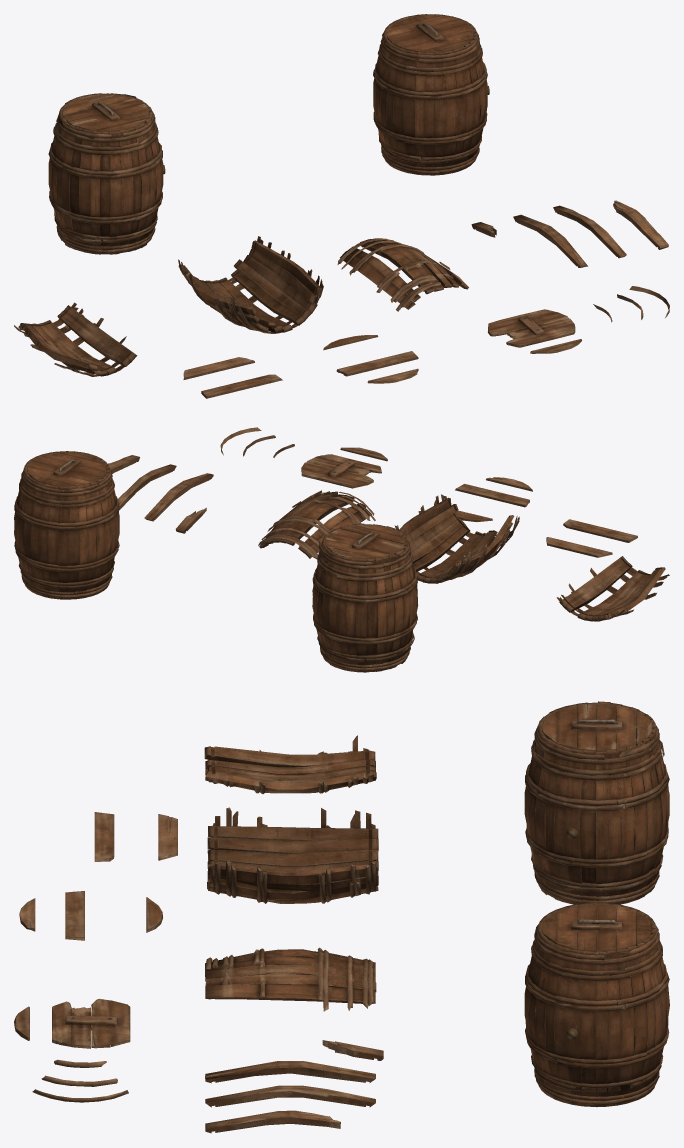
Rendered from wooden_barrels_01.glb.
3 renders of one model, top to bottom at view 1: azimuth 30°, elevation 25°; view 2: azimuth 150°, elevation 25°; view 3: azimuth 270°, elevation 25°, orthographic. The views are drawn at different scales.
Parts seen in each view (by area): view 1: wooden_barrels_01_barrel02, wooden_barrels_01_barrel01, wooden_barrels_01_piece01, wooden_barrels_01_piece03, wooden_barrels_01_piece02, wooden_barrels_01_piece08, wooden_barrels_01_piece04, wooden_barrels_01_piece05, wooden_barrels_01_piece06, wooden_barrels_01_piece11, wooden_barrels_01_piece14, wooden_barrels_01_piece13; view 2: wooden_barrels_01_barrel02, wooden_barrels_01_barrel01, wooden_barrels_01_piece01, wooden_barrels_01_piece03, wooden_barrels_01_piece02, wooden_barrels_01_piece08, wooden_barrels_01_piece04, wooden_barrels_01_piece14, wooden_barrels_01_piece11, wooden_barrels_01_piece05, wooden_barrels_01_piece13; view 3: wooden_barrels_01_barrel01, wooden_barrels_01_barrel02, wooden_barrels_01_piece01, wooden_barrels_01_piece03, wooden_barrels_01_piece02, wooden_barrels_01_piece08, wooden_barrels_01_piece04, wooden_barrels_01_piece05, wooden_barrels_01_piece06, wooden_barrels_01_piece14, wooden_barrels_01_piece11, wooden_barrels_01_piece13 (+1 smaller).
Boxes of the visible parts, bbox=[...] form: wooden_barrels_01_barrel02: bbox=[48, 93, 165, 254]; wooden_barrels_01_barrel01: bbox=[373, 14, 489, 175]; wooden_barrels_01_piece01: bbox=[178, 236, 323, 333]; wooden_barrels_01_piece03: bbox=[337, 238, 468, 311]; wooden_barrels_01_piece02: bbox=[14, 302, 137, 376]; wooden_barrels_01_piece08: bbox=[488, 309, 575, 347]; wooden_barrels_01_piece04: bbox=[513, 214, 587, 267]; wooden_barrels_01_piece05: bbox=[553, 205, 626, 258]; wooden_barrels_01_piece06: bbox=[613, 200, 668, 249]; wooden_barrels_01_piece11: bbox=[336, 351, 418, 376]; wooden_barrels_01_piece14: bbox=[201, 374, 282, 398]; wooden_barrels_01_piece13: bbox=[183, 357, 254, 379]; wooden_barrels_01_barrel02: bbox=[312, 523, 418, 672]; wooden_barrels_01_barrel01: bbox=[14, 451, 119, 599]; wooden_barrels_01_piece01: bbox=[394, 494, 519, 583]; wooden_barrels_01_piece03: bbox=[258, 490, 375, 559]; wooden_barrels_01_piece02: bbox=[556, 556, 669, 621]; wooden_barrels_01_piece08: bbox=[301, 454, 381, 488]; wooden_barrels_01_piece04: bbox=[144, 473, 213, 521]; wooden_barrels_01_piece14: bbox=[563, 519, 637, 542]; wooden_barrels_01_piece11: bbox=[455, 484, 529, 507]; wooden_barrels_01_piece05: bbox=[118, 464, 176, 510]; wooden_barrels_01_piece13: bbox=[546, 537, 612, 557]; wooden_barrels_01_barrel01: bbox=[524, 902, 669, 1107]; wooden_barrels_01_barrel02: bbox=[524, 701, 669, 904]; wooden_barrels_01_piece01: bbox=[207, 807, 378, 903]; wooden_barrels_01_piece03: bbox=[205, 947, 376, 1011]; wooden_barrels_01_piece02: bbox=[204, 735, 376, 793]; wooden_barrels_01_piece08: bbox=[52, 998, 130, 1048]; wooden_barrels_01_piece04: bbox=[205, 1061, 375, 1083]; wooden_barrels_01_piece05: bbox=[205, 1085, 375, 1107]; wooden_barrels_01_piece06: bbox=[205, 1110, 340, 1133]; wooden_barrels_01_piece14: bbox=[94, 812, 114, 861]; wooden_barrels_01_piece11: bbox=[65, 891, 84, 940]; wooden_barrels_01_piece13: bbox=[158, 814, 177, 860].
Bounding box in the file's own units: 4.44 × 0.953 × 3.34.
Materials: 3 (3 with a texture image).
